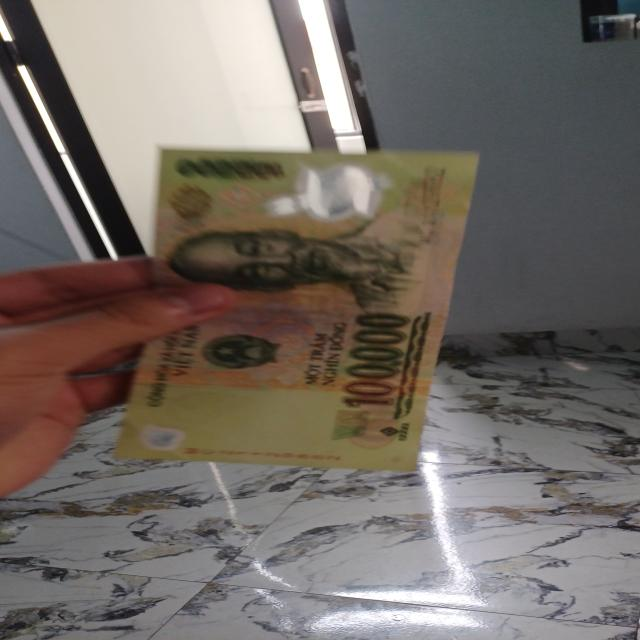100 000 VND: (108, 145, 493, 477)
